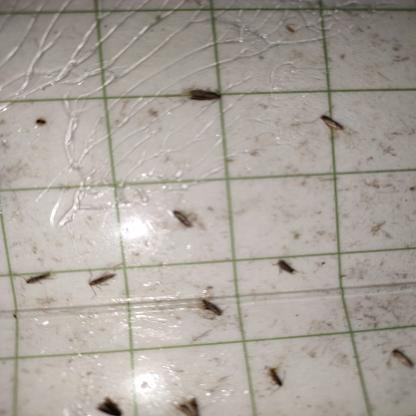prays_oleae: (7, 256, 60, 307), (177, 71, 224, 121), (260, 350, 295, 410), (78, 258, 117, 308), (192, 287, 235, 330), (314, 99, 350, 148), (388, 332, 416, 382), (268, 246, 304, 284), (172, 194, 202, 239), (168, 384, 201, 415), (92, 387, 124, 415)
